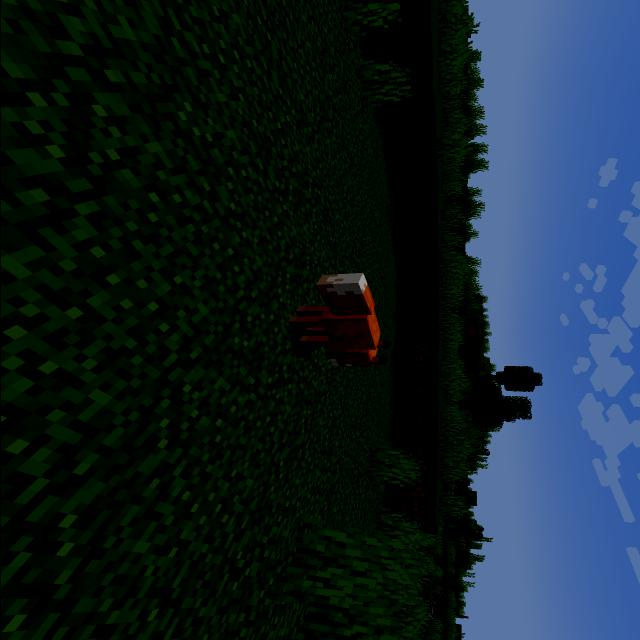Fox: (274, 268, 396, 376)
